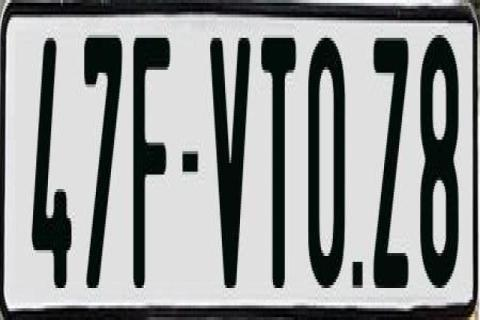0: (33, 29, 76, 288), (85, 35, 125, 297), (421, 32, 459, 300), (306, 35, 346, 285)
F: (133, 29, 172, 297)
T: (258, 32, 296, 288)
V: (210, 35, 255, 288)
Z: (372, 32, 410, 300)
